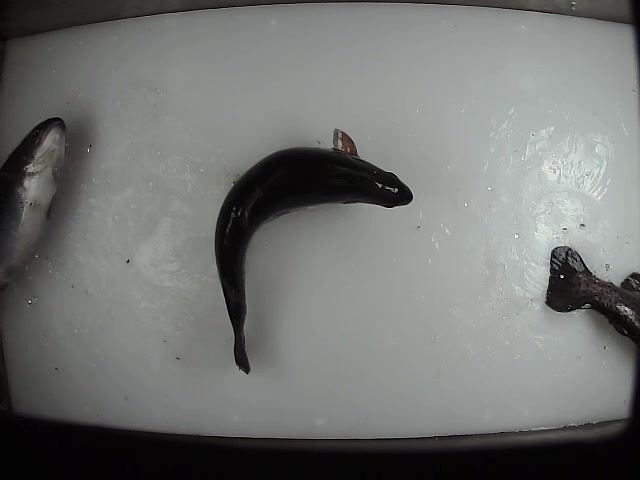Fish: (215, 127, 413, 375)
